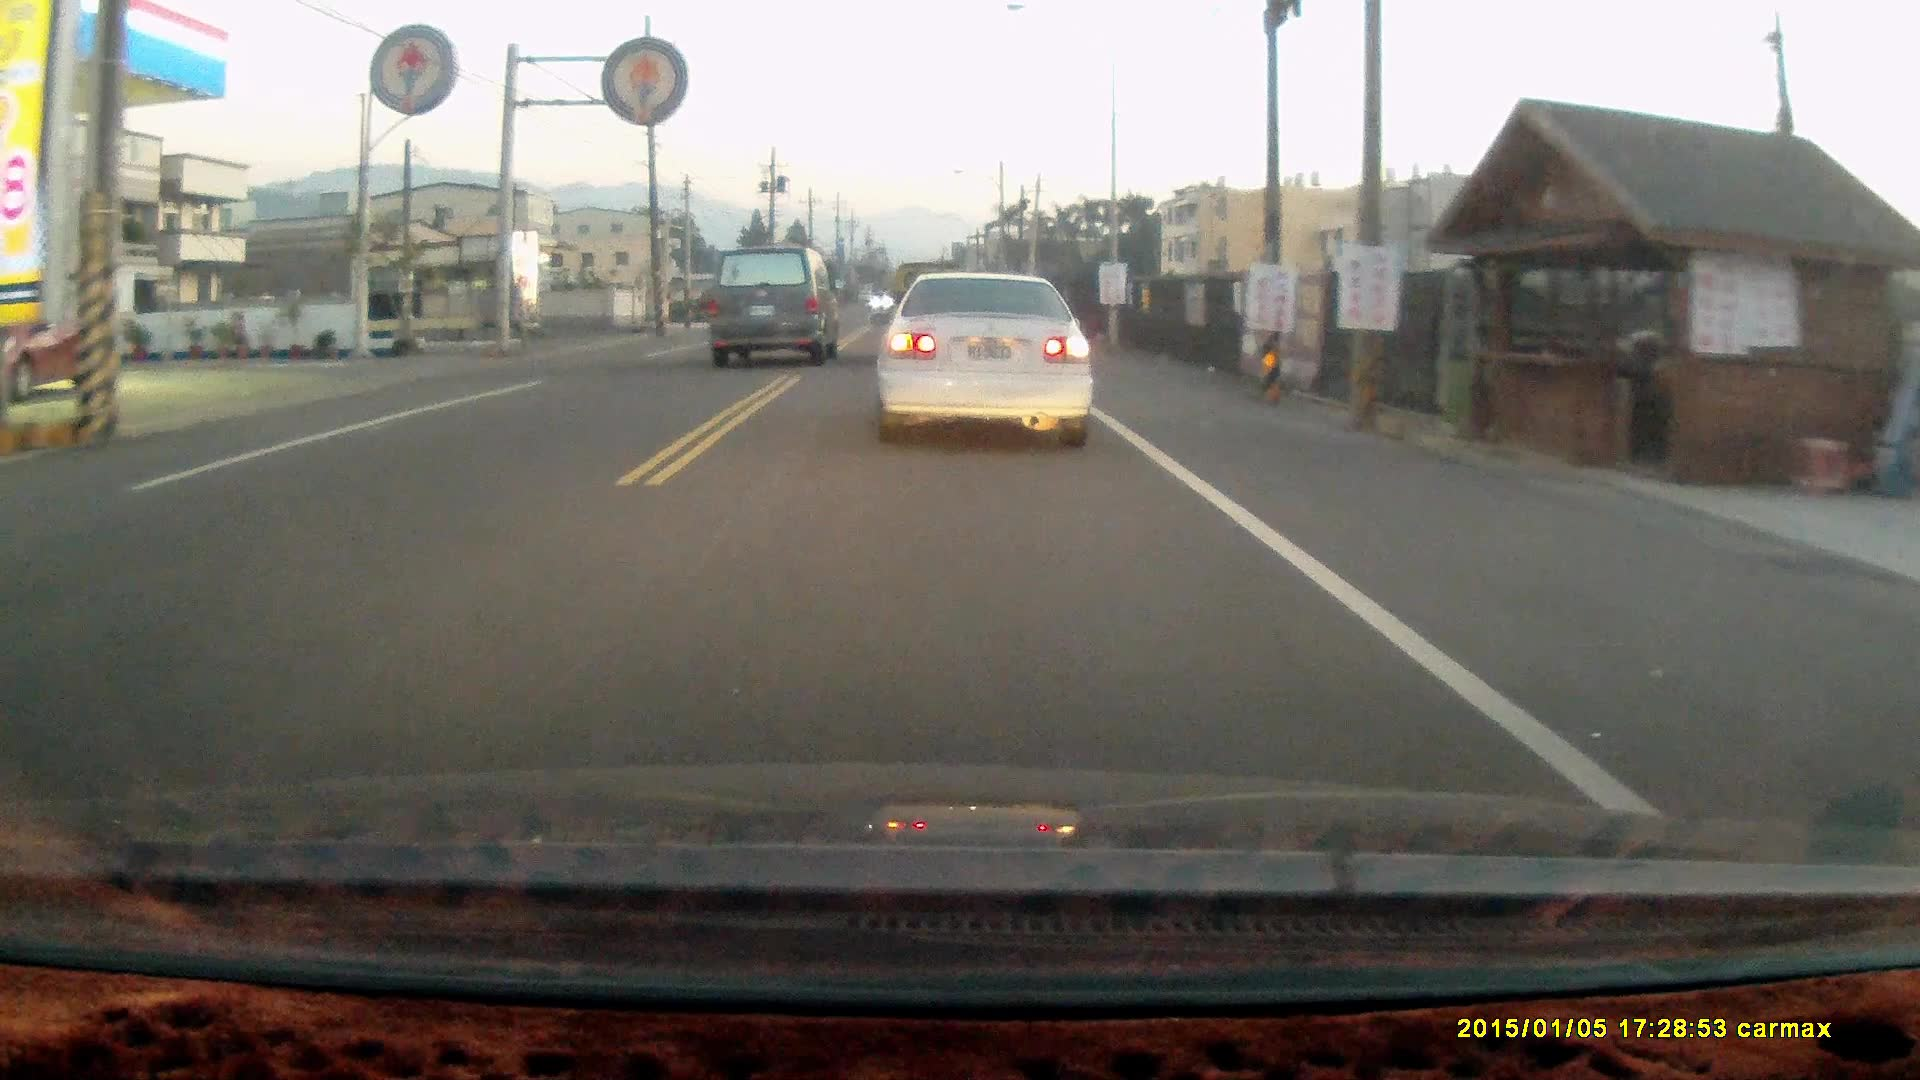pedestrian: (1629, 329, 1678, 436)
vehicle: (871, 270, 1096, 458), (703, 246, 842, 373), (2, 296, 105, 397)
